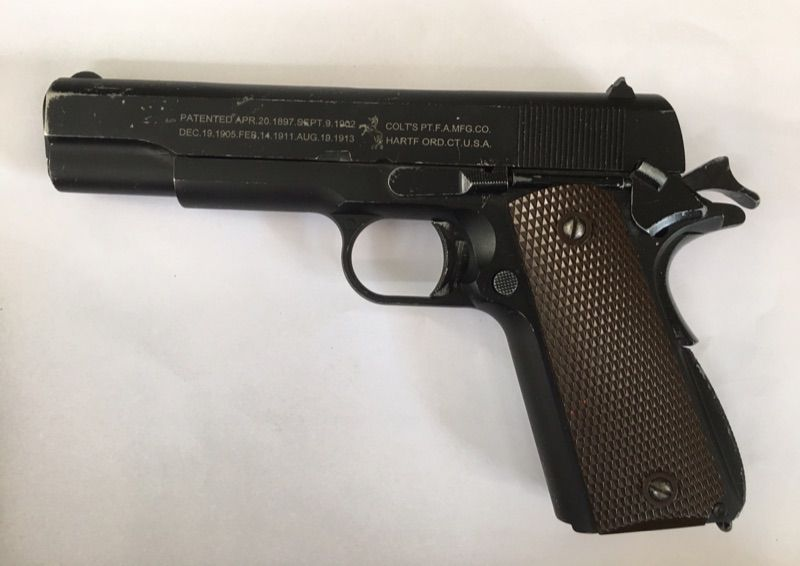gun: (32, 61, 766, 545)
